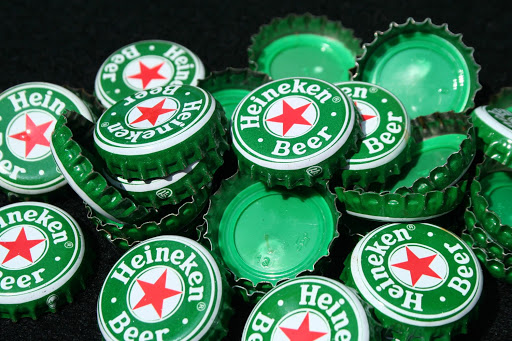heineken: (349, 218, 485, 332), (94, 232, 226, 341), (229, 76, 358, 177), (94, 83, 221, 165), (1, 81, 90, 191), (1, 200, 84, 309), (240, 275, 377, 341), (335, 72, 416, 181), (92, 38, 208, 104)
